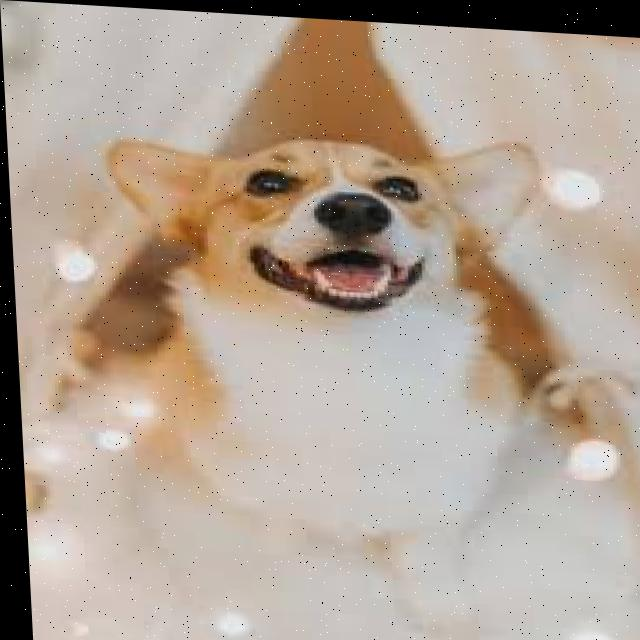CORGI: (65, 111, 590, 602)
